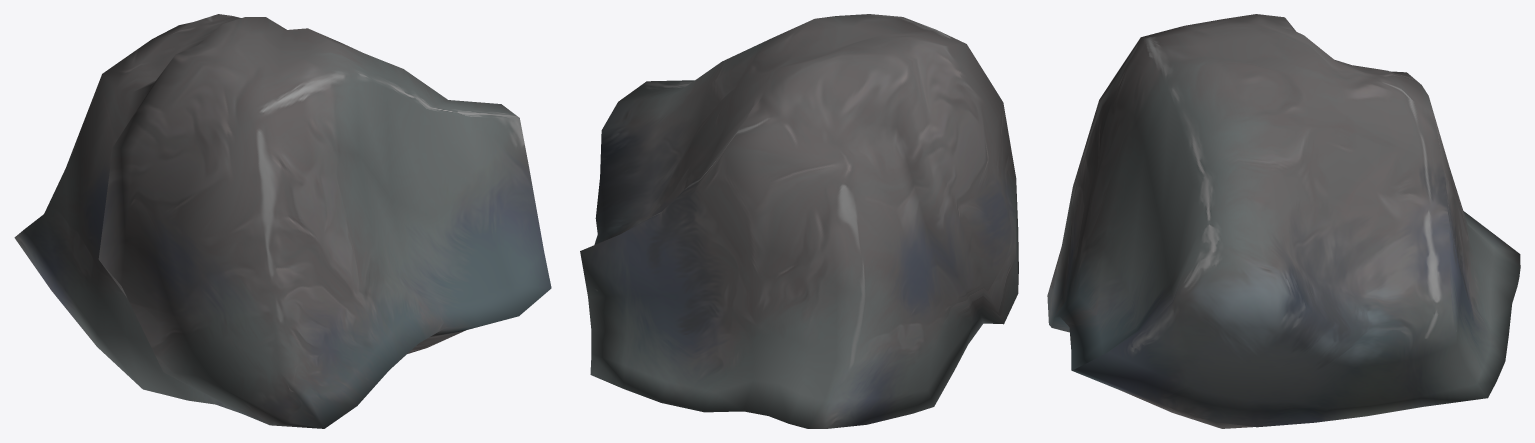
File: BigRocker2.fbx
The picture shows the model from 3 angles, left to right: view 1: azimuth 30°, elevation 25°; view 2: azimuth 150°, elevation 25°; view 3: azimuth 270°, elevation 25°; orthographic projection. The views are drawn at different scales.
Parts seen in each view (by area): view 1: BigRock_LOD0; view 2: BigRock_LOD0; view 3: BigRock_LOD0.
Boxes of the visible parts, box(x1,y1,x2,y2) form: BigRock_LOD0: box(14, 14, 551, 428); BigRock_LOD0: box(580, 14, 1018, 428); BigRock_LOD0: box(1047, 14, 1520, 428).
Size of what is drawn, in the model's own units: 320 by 277 by 348.
1 material, 1 textured.
